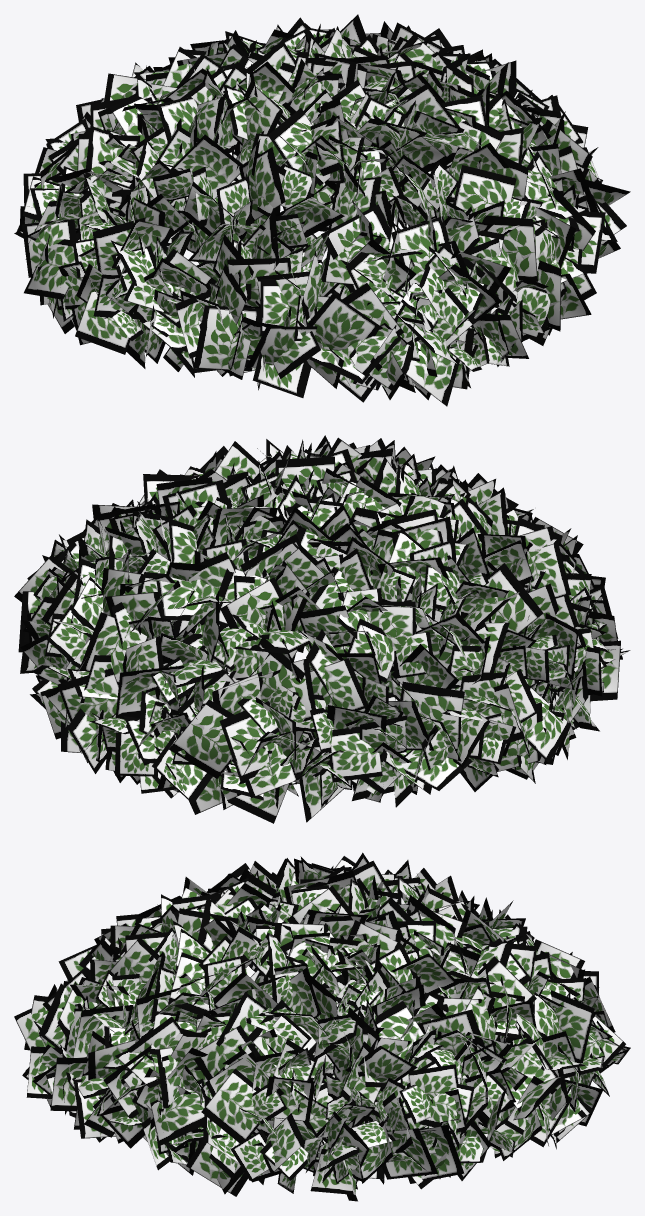
The model's file is WorldTreeLPLeaf_ForestProp_003.fbx.
The picture shows the model from 3 angles, top to bottom: view 1: azimuth 30°, elevation 25°; view 2: azimuth 150°, elevation 25°; view 3: azimuth 270°, elevation 25°; orthographic projection. The views are drawn at different scales.
Visible parts, largest first — view 1: Leaf.628, Leaf.597, Leaf.432, Leaf.687, Leaf.442, Leaf.544, Leaf.516, Leaf.768, Leaf.530, Leaf.636, Leaf.731, Leaf.621 (+98 smaller); view 2: Leaf.995, Leaf.956, Leaf.902, Leaf.738, Leaf.072, Leaf.888, Leaf.084, Leaf.979, Leaf.829, Leaf.863, Leaf.056, Leaf.768 (+110 smaller); view 3: Leaf.312, Leaf.339, Leaf.056, Leaf.216, Leaf.365, Leaf.129, Leaf.414, Leaf.230, Leaf.446, Leaf.196, Leaf.476, Leaf.271 (+100 smaller).
Boxes of the visible parts, x1=… form: Leaf.628: x1=193, y1=305, x2=260, y2=371; Leaf.597: x1=308, y1=293, x2=382, y2=350; Leaf.432: x1=450, y1=165, x2=516, y2=217; Leaf.687: x1=168, y1=134, x2=242, y2=199; Leaf.442: x1=482, y1=215, x2=537, y2=281; Leaf.544: x1=321, y1=204, x2=391, y2=293; Leaf.516: x1=402, y1=341, x2=459, y2=406; Leaf.768: x1=24, y1=239, x2=75, y2=299; Leaf.530: x1=391, y1=216, x2=448, y2=292; Leaf.636: x1=239, y1=147, x2=285, y2=221; Leaf.731: x1=75, y1=291, x2=134, y2=354; Leaf.621: x1=268, y1=108, x2=312, y2=170; Leaf.995: x1=169, y1=699, x2=233, y2=778; Leaf.956: x1=219, y1=701, x2=283, y2=781; Leaf.902: x1=329, y1=726, x2=382, y2=782; Leaf.738: x1=475, y1=563, x2=543, y2=633; Leaf.072: x1=80, y1=612, x2=154, y2=685; Leaf.888: x1=310, y1=658, x2=367, y2=710; Leaf.084: x1=57, y1=668, x2=118, y2=721; Leaf.979: x1=220, y1=577, x2=284, y2=631; Leaf.829: x1=400, y1=681, x2=464, y2=729; Leaf.863: x1=366, y1=601, x2=415, y2=651; Leaf.056: x1=115, y1=665, x2=184, y2=719; Leaf.768: x1=527, y1=683, x2=569, y2=762; Leaf.312: x1=201, y1=1068, x2=259, y2=1143; Leaf.339: x1=150, y1=1078, x2=211, y2=1145; Leaf.056: x1=550, y1=990, x2=594, y2=1063; Leaf.216: x1=382, y1=1128, x2=437, y2=1179; Leaf.365: x1=194, y1=1025, x2=260, y2=1080; Leaf.129: x1=417, y1=1009, x2=484, y2=1061; Leaf.414: x1=168, y1=952, x2=209, y2=1014; Leaf.230: x1=375, y1=1001, x2=429, y2=1064; Leaf.446: x1=50, y1=1057, x2=88, y2=1111; Leaf.196: x1=345, y1=1046, x2=417, y2=1091; Leaf.476: x1=110, y1=937, x2=176, y2=995; Leaf.271: x1=265, y1=1076, x2=314, y2=1121.
Size of the model in its own units: 2391 by 2236 by 941.
1 material, 1 textured.
